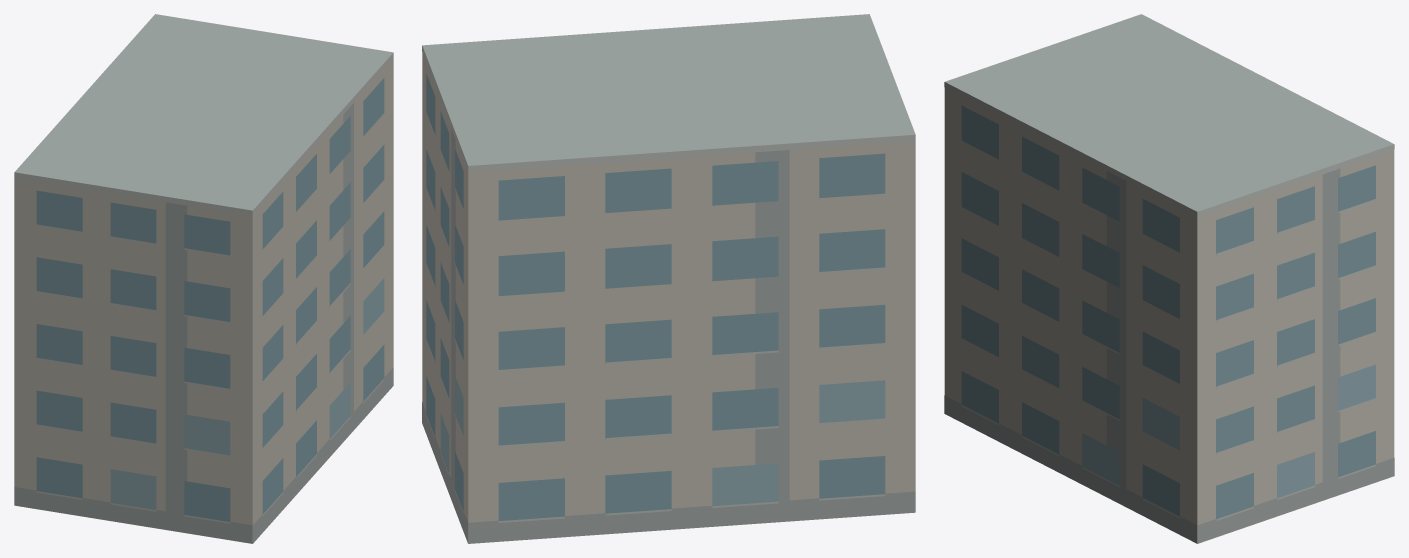
Rendered from survey-upis-32765251.glb.
The picture shows the model from 3 angles, left to right: view 1: azimuth 30°, elevation 25°; view 2: azimuth 150°, elevation 25°; view 3: azimuth 270°, elevation 25°; orthographic projection. The views are drawn at different scales.
Parts seen in each view (by area): view 1: survey-upis-32765251.tmp; view 2: survey-upis-32765251.tmp; view 3: survey-upis-32765251.tmp.
Part boxes in pixels (<box>): survey-upis-32765251.tmp: <box>14,14,393,543</box>; survey-upis-32765251.tmp: <box>422,14,915,543</box>; survey-upis-32765251.tmp: <box>944,14,1394,543</box>.
Size of the model in its own units: 18.34 by 14.34 by 17.62.
